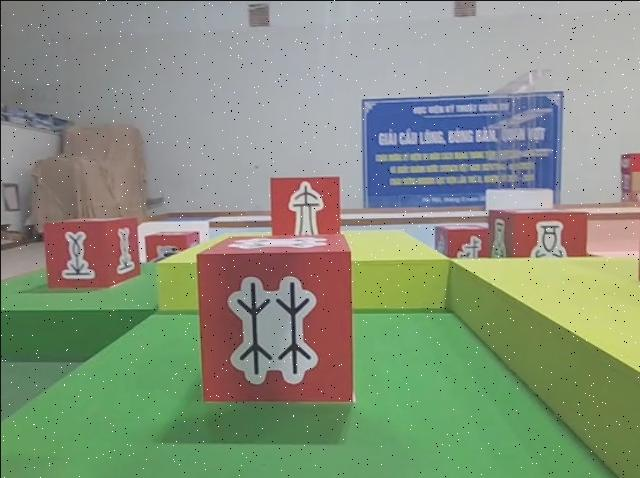R2 Fake: (268, 176, 343, 244)
R2 Real: (194, 229, 360, 408), (43, 212, 141, 295), (487, 204, 586, 268)
